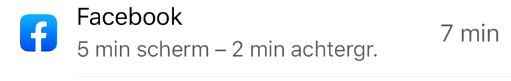name: (67, 4, 193, 31)
time: (69, 37, 135, 63), (229, 37, 290, 63)
